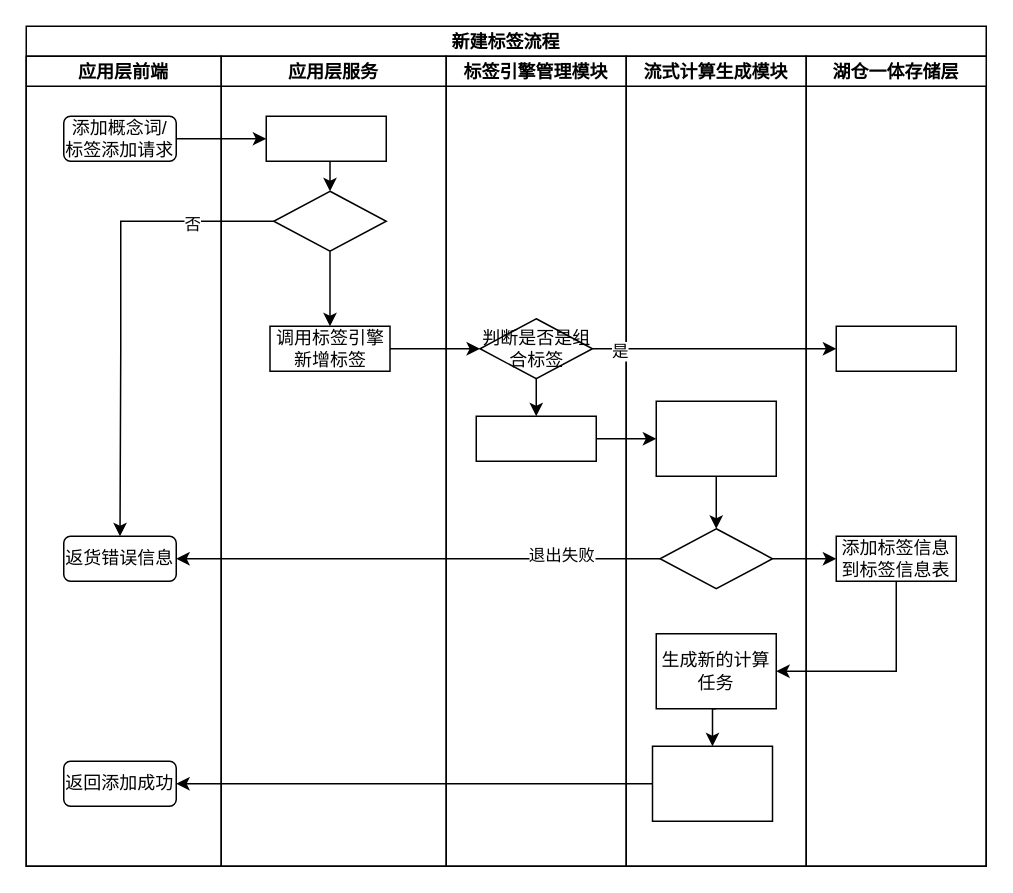
Some shapes in this 1013 by 893 pixel diagram are drawn without their labels. Each missing label, with the centre of its shape:
停止对象表为输入的流式计算任务: (x=715, y=438)
判断任务退出状态: (x=715, y=558)
判断参数合法: (x=329, y=220)
启动新的流式计算任务: (x=711, y=783)
添加组合标签到标签信息表: (x=895, y=348)
解析影响的对象表: (x=535, y=438)
解析请求参数: (x=325, y=138)
